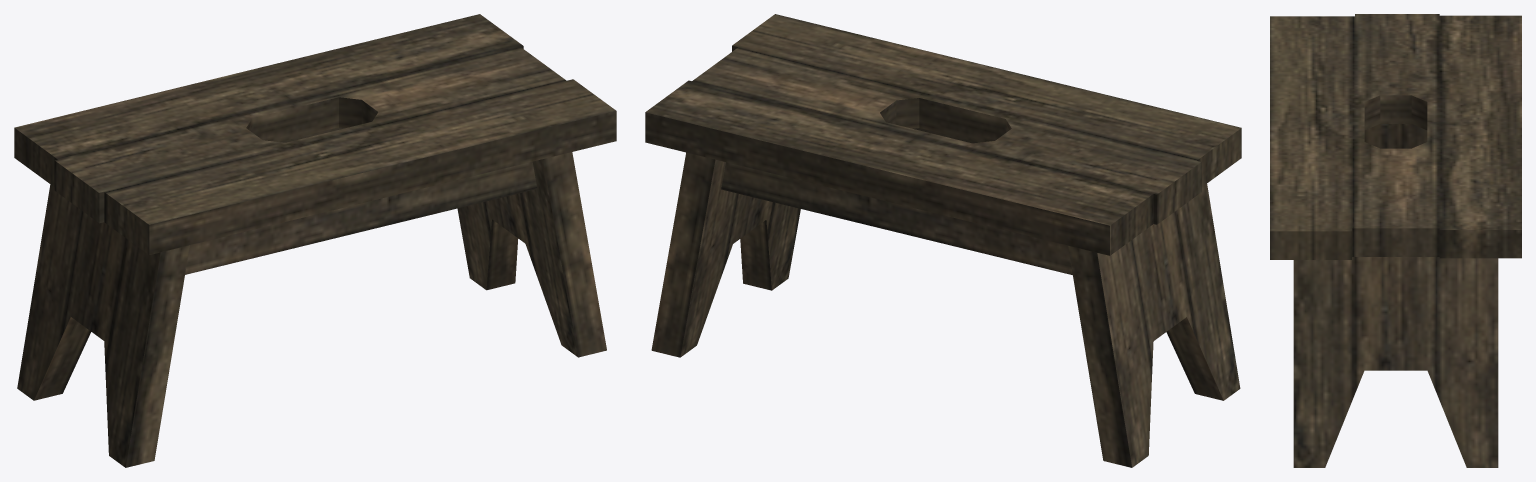
File: stool_mx_1_1.obj
The picture shows the model from 3 angles, left to right: view 1: azimuth 30°, elevation 25°; view 2: azimuth 150°, elevation 25°; view 3: azimuth 270°, elevation 25°; orthographic projection. The views are drawn at different scales.
Visible parts, largest first — view 1: stool_mx_1_1; view 2: stool_mx_1_1; view 3: stool_mx_1_1.
Part boxes in pixels (left/top/right/bottom): stool_mx_1_1: left=14, top=14, right=616, bottom=467; stool_mx_1_1: left=645, top=14, right=1241, bottom=467; stool_mx_1_1: left=1270, top=14, right=1521, bottom=467.
Bounding box in the file's own units: 0.6665 × 0.33 × 0.32.
